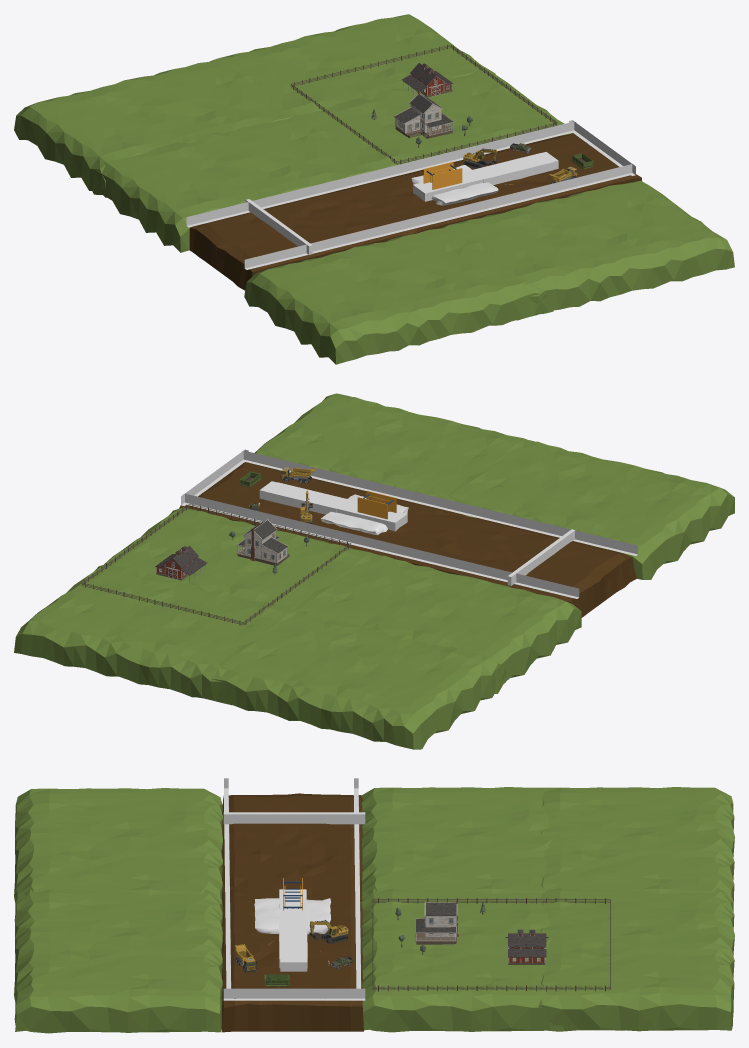
The model's file is Scenario1.glb.
3 views of the same model, one above another, from view 1: azimuth 30°, elevation 25°; view 2: azimuth 150°, elevation 25°; view 3: azimuth 270°, elevation 25° (orthographic). The views are drawn at different scales.
Parts seen in each view (by area): view 1: grass.002, grass.001, grass, COL_Small_Base, COL_Slope_Base, COL_Siteborder_01, COL_Siteborder_02, SM_Bld_Farmhouse_01, COL_Trench_Barrier_WORKSITE_01, SM_Bld_Barn_01, COL_Trench_Barrier_WORKSITE_02, 34 slope (+5 smaller); view 2: grass.001, grass.002, grass, COL_Small_Base, COL_Slope_Base, COL_Siteborder_02, COL_Siteborder_01, COL_Trench_Barrier_WORKSITE_02, SM_Bld_Farmhouse_01, COL_Trench_Barrier_WORKSITE_01, SM_Bld_Barn_01, 34 slope (+5 smaller); view 3: grass.002, grass.001, grass, COL_Small_Base, COL_Slope_Base, COL_Trench_Barrier_WORKSITE_02, COL_Siteborder_03, COL_Siteborder_04, SM_Bld_Farmhouse_01, 34 slope, SM_Bld_Barn_01, COL_Siteborder_02 (+4 smaller).
Boxes of the visible parts, x1,y1,x2,y2 form: grass.002: (244, 180, 734, 364); grass.001: (14, 14, 495, 197); grass: (92, 68, 572, 252); COL_Small_Base: (189, 133, 641, 290); COL_Slope_Base: (192, 135, 639, 288); COL_Siteborder_01: (244, 164, 633, 269); COL_Siteborder_02: (186, 121, 575, 227); SM_Bld_Farmhouse_01: (393, 91, 453, 138); COL_Trench_Barrier_WORKSITE_01: (473, 153, 553, 185); SM_Bld_Barn_01: (402, 63, 453, 97); COL_Trench_Barrier_WORKSITE_02: (413, 152, 558, 201); 34 slope: (411, 165, 498, 205); grass.001: (14, 565, 505, 749); grass.002: (254, 393, 734, 579); grass: (104, 507, 581, 693); COL_Small_Base: (179, 462, 636, 617); COL_Slope_Base: (187, 463, 633, 612); COL_Siteborder_02: (183, 493, 579, 598); COL_Siteborder_01: (242, 450, 637, 555); COL_Trench_Barrier_WORKSITE_02: (259, 481, 407, 531); SM_Bld_Farmhouse_01: (236, 519, 289, 565); COL_Trench_Barrier_WORKSITE_01: (265, 482, 348, 514); SM_Bld_Barn_01: (155, 545, 206, 582); 34 slope: (321, 494, 408, 535); grass.002: (14, 788, 222, 1033); grass.001: (526, 787, 734, 1031); grass: (361, 787, 563, 1032); COL_Small_Base: (221, 793, 363, 1032); COL_Slope_Base: (222, 794, 362, 1031); COL_Trench_Barrier_WORKSITE_02: (279, 889, 307, 971); COL_Siteborder_03: (223, 988, 365, 1000); COL_Siteborder_04: (223, 812, 365, 824); SM_Bld_Farmhouse_01: (415, 900, 458, 944); 34 slope: (254, 898, 330, 934); SM_Bld_Barn_01: (505, 929, 548, 964); COL_Siteborder_02: (354, 778, 361, 1000).
Size of the model in its own units: 130 by 19.87 by 181.
10 materials, 9 textured.
